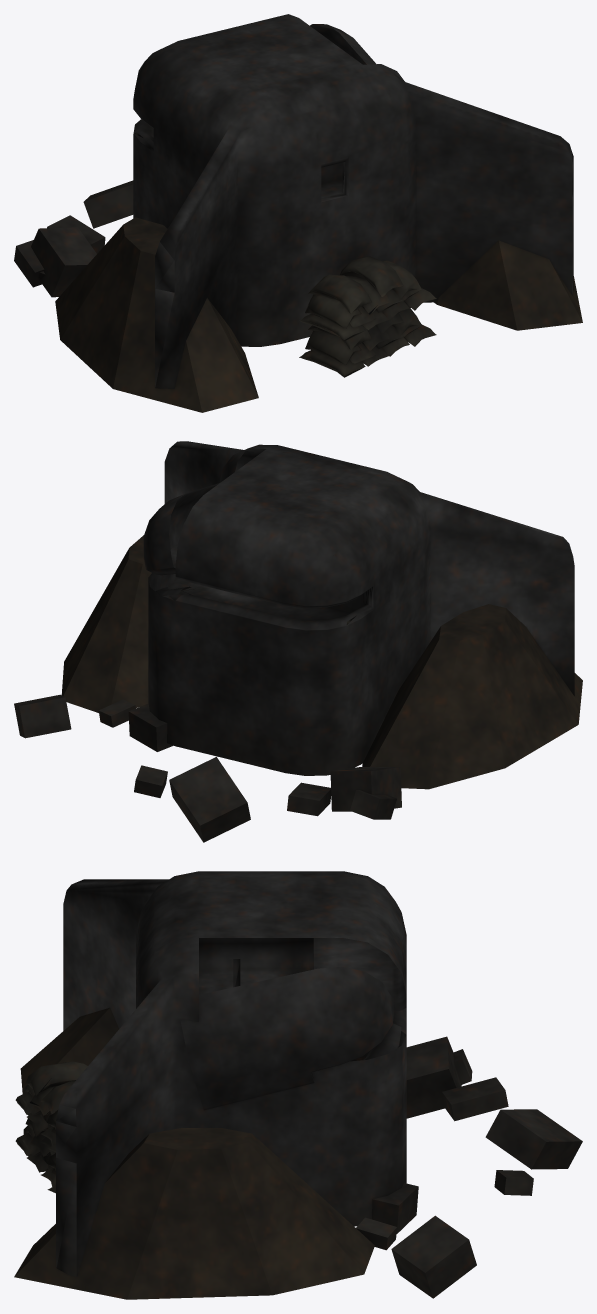
The model's file is pbox-wreck.glb.
3 views of the same model, one above another, from view 1: azimuth 30°, elevation 25°; view 2: azimuth 150°, elevation 25°; view 3: azimuth 270°, elevation 25° (orthographic). The views are drawn at different scales.
Visible parts, largest first — view 1: hull; view 2: hull; view 3: hull.
Boxes of the visible parts, left/top/right/bottom form: hull: left=14, top=14, right=582, bottom=412; hull: left=14, top=441, right=582, bottom=842; hull: left=14, top=871, right=582, bottom=1299.
Size of the model in its own units: 6.66 by 3.49 by 6.29.
1 material, 1 textured.
